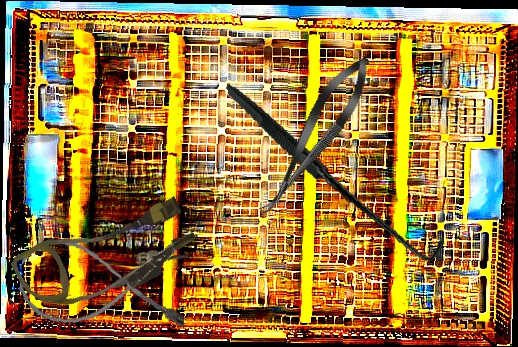Cannula: (8, 177, 204, 335), (16, 235, 191, 334)
Hook Surgical: (226, 53, 447, 289)
Micro Scissor: (249, 48, 382, 224)
